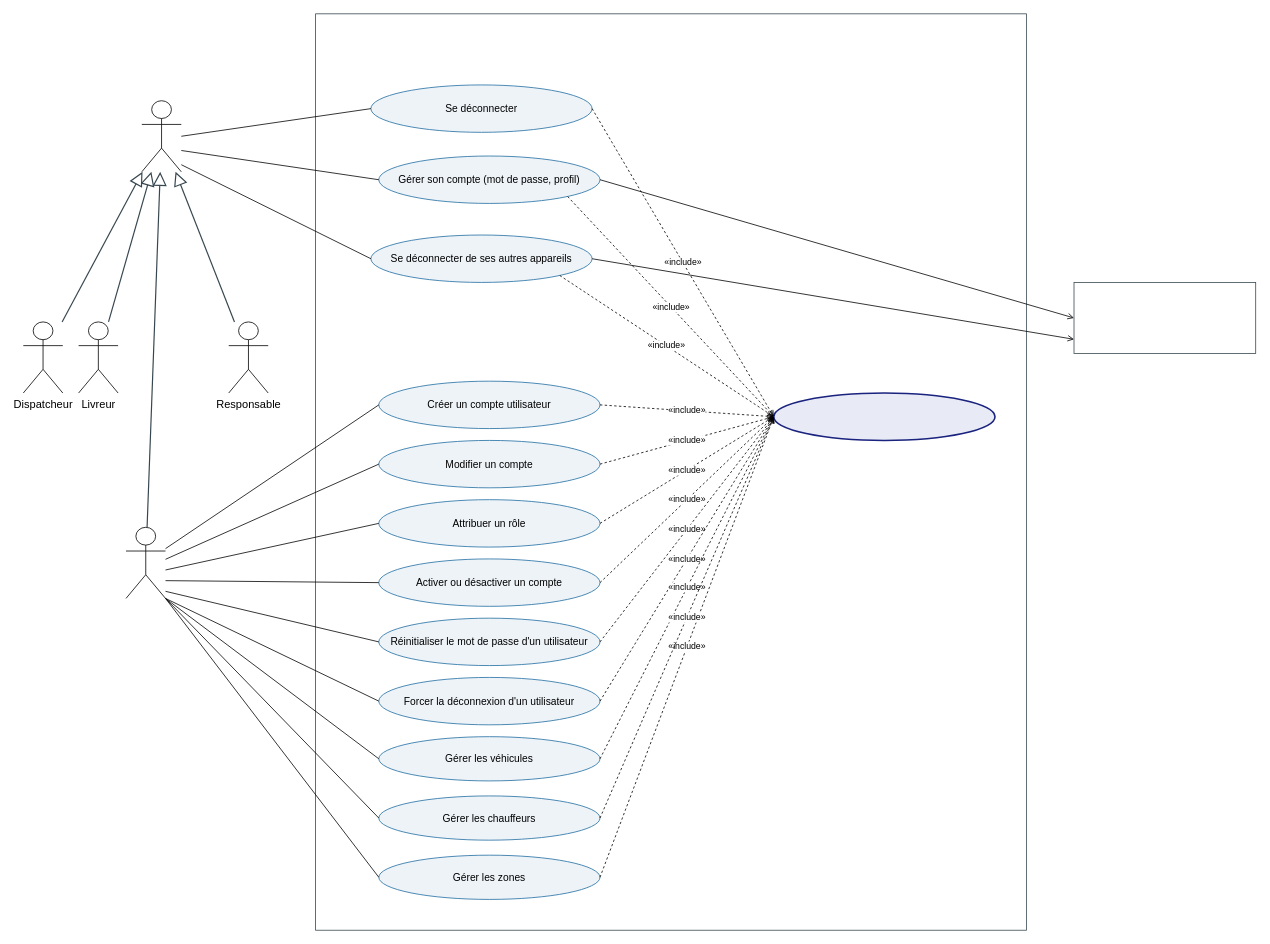
Some shapes in this 1270 by 944 pixel diagram are drawn without their labels. Here are the shapes that lost their labels. From the top down, the centre of each, then its label:
At point 161,136: "« Utilisateur » (authentifié)".
At point 1164,318: "« système externe » Keycloak (serveur d'identité)".
At point 884,416: "S'authentifier".
At point 145,562: "Administrateur".
